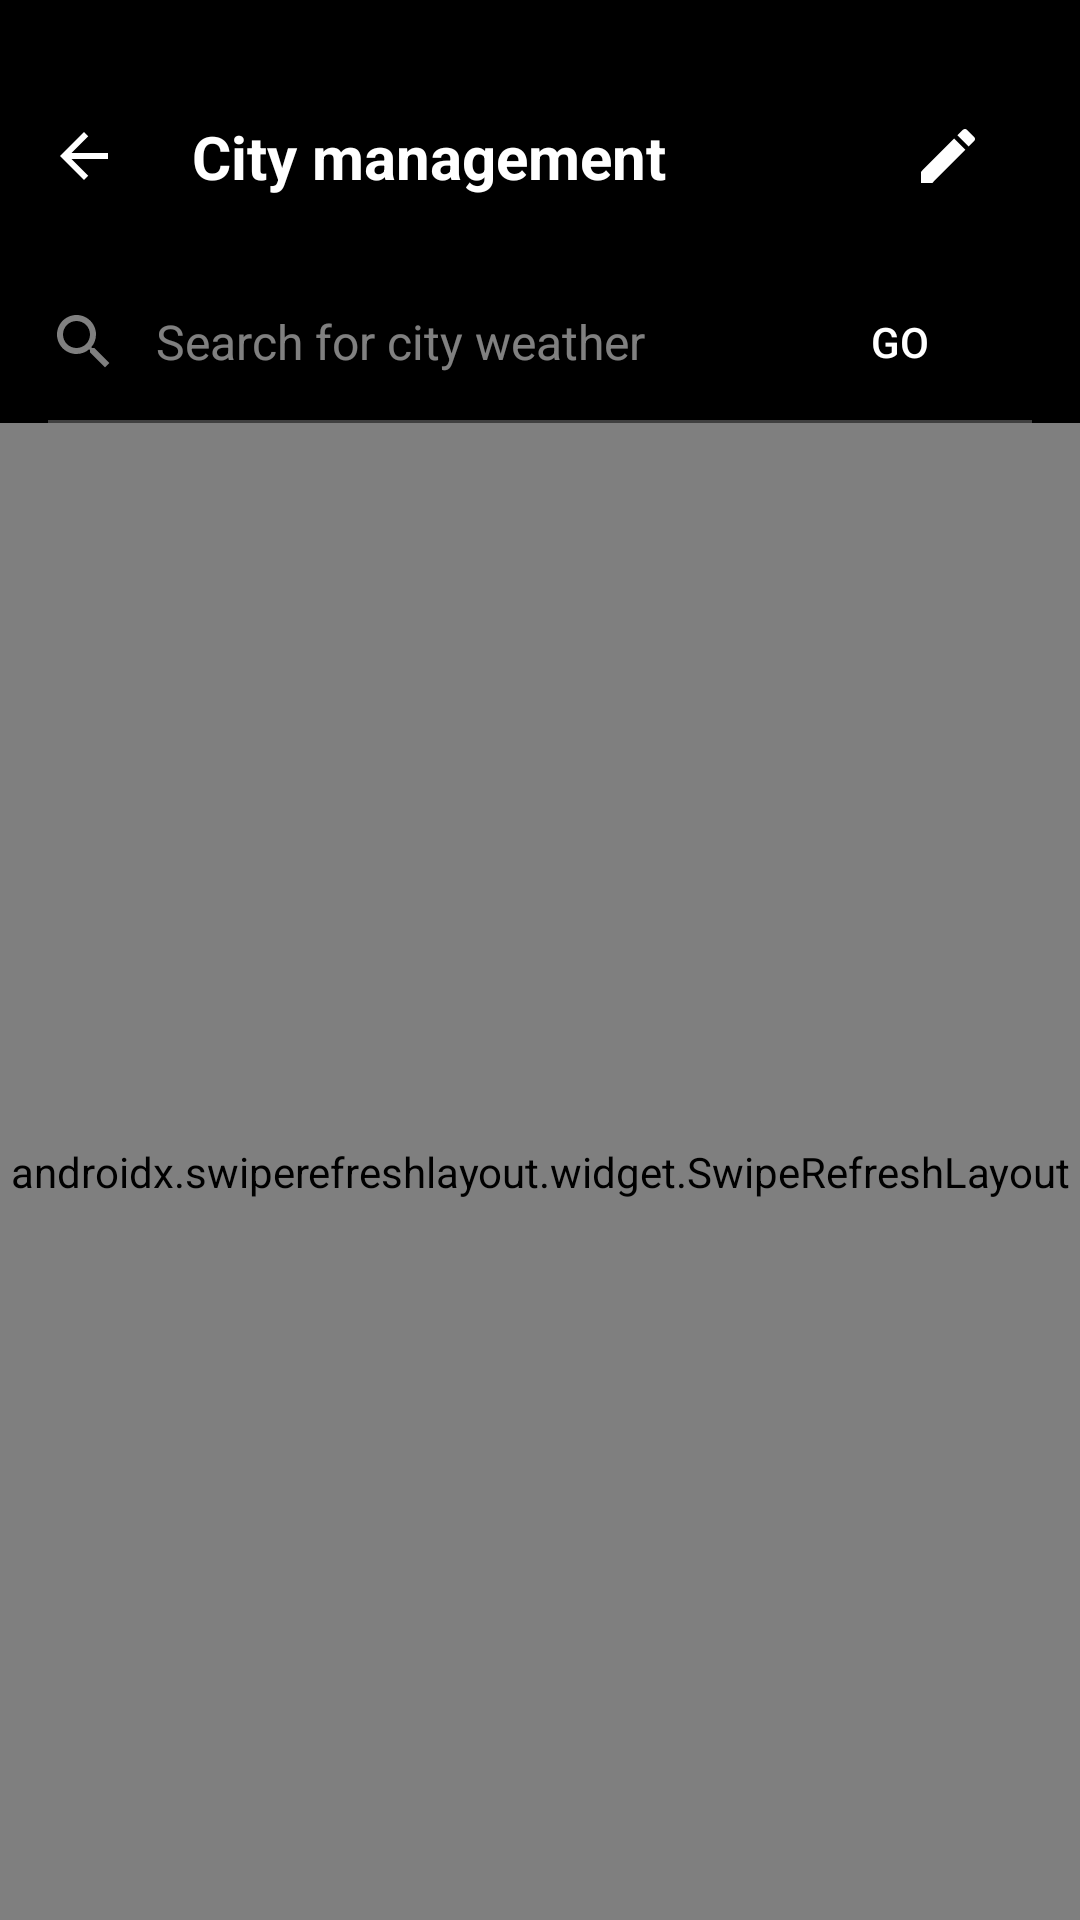

Named icons in this screenshot (1080w x 1920h) and their bounding boxes, bbox=[x1, y1, x2, y2]:
arrow back: bbox=[60, 132, 108, 180]
edit: bbox=[921, 129, 975, 183]
